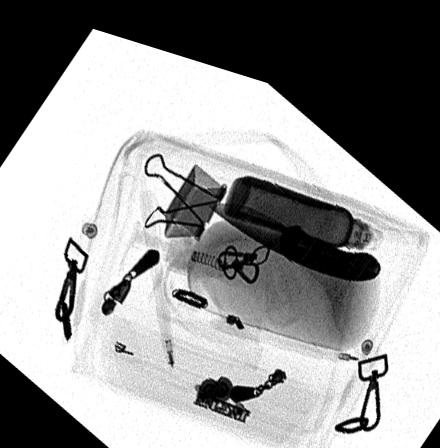Knife: (207, 187, 382, 259)
